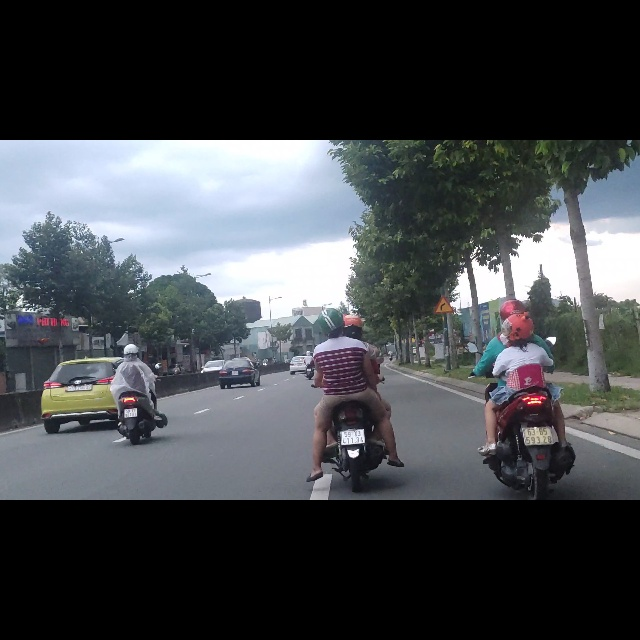bien_nguy_hiem: (433, 276, 455, 309)
